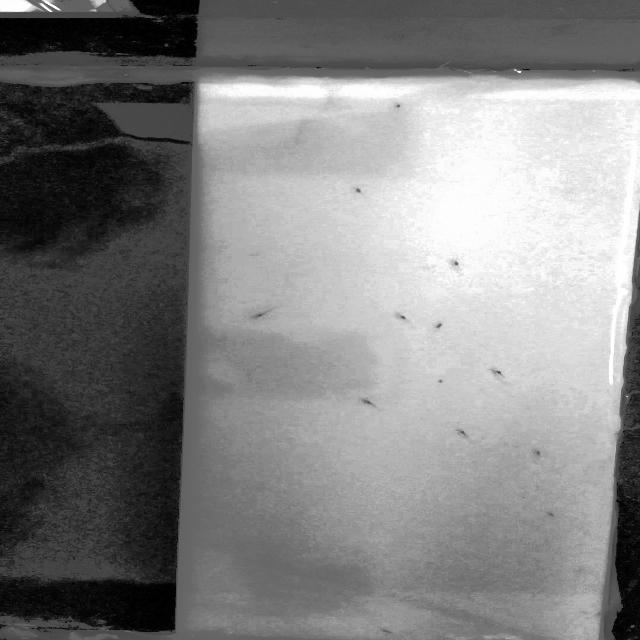shrimp: (361, 396, 384, 414), (450, 426, 475, 441), (391, 309, 413, 325), (251, 308, 279, 319), (488, 367, 508, 379), (430, 320, 450, 331), (377, 626, 404, 634), (431, 378, 454, 386), (392, 101, 410, 111), (447, 261, 464, 271), (352, 186, 368, 196), (529, 448, 547, 456), (545, 511, 566, 517)
